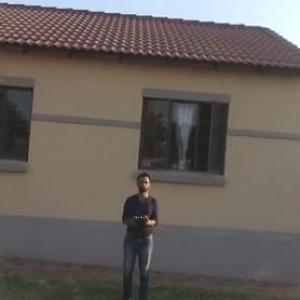follow: (114, 168, 163, 299)
